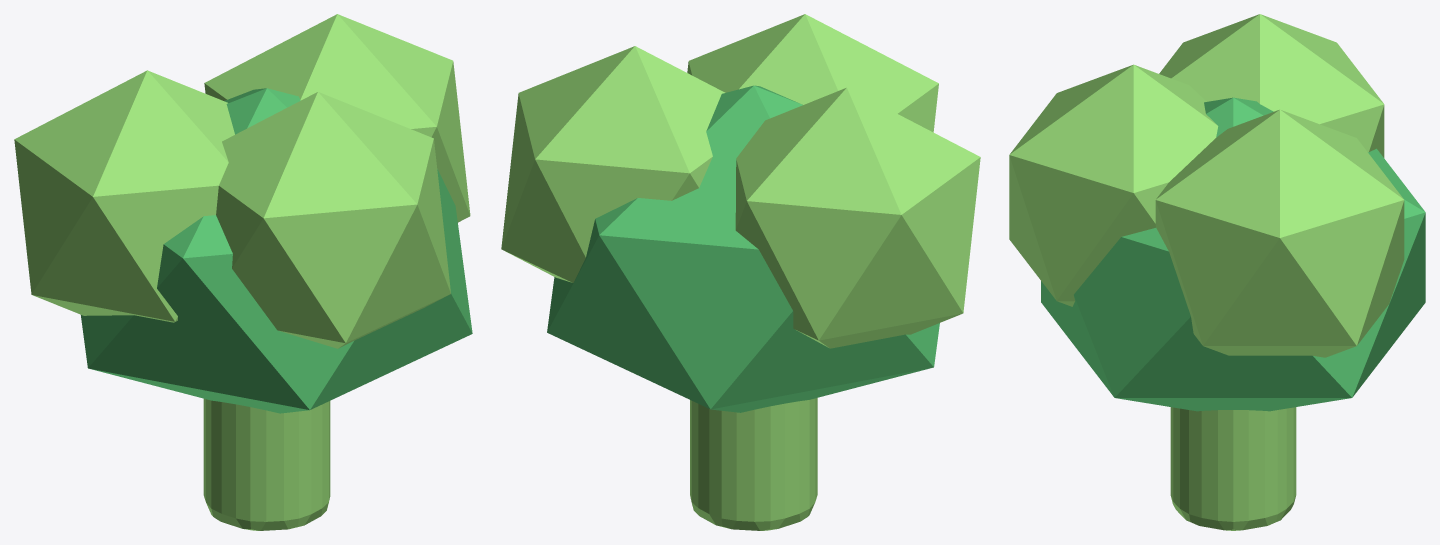
Rendered from VegetableRaw.fbx.
3 views of the same model, side by side, from view 1: azimuth 30°, elevation 25°; view 2: azimuth 150°, elevation 25°; view 3: azimuth 270°, elevation 25° (orthographic). The views are drawn at different scales.
Parts seen in each view (by area): view 1: Floret_0_-0.15, Floret_-0.18_0.04, BroccoliHead, Floret_0.16_0.07, Stem; view 2: BroccoliHead, Floret_-0.18_0.04, Floret_0.16_0.07, Stem, Floret_0_-0.15; view 3: Floret_0.16_0.07, BroccoliHead, Floret_0_-0.15, Floret_-0.18_0.04, Stem.
Part boxes in pixels (x1,y1,x2,y2): Floret_0_-0.15: (216,92,450,348); Floret_-0.18_0.04: (14,70,234,322); BroccoliHead: (81,88,472,413); Floret_0.16_0.07: (204,14,470,222); Stem: (203,398,330,530); BroccoliHead: (547,85,939,412); Floret_-0.18_0.04: (735,87,980,348); Floret_0.16_0.07: (501,46,725,282); Stem: (690,398,817,530); Floret_0_-0.15: (687,14,938,132); Floret_0.16_0.07: (1155,109,1404,357); BroccoliHead: (1041,97,1425,411); Floret_0_-0.15: (1009,64,1218,306); Floret_-0.18_0.04: (1159,14,1384,157); Stem: (1170,407,1296,530).
Size of the model in its own units: 0.7335 by 0.74 by 0.6264.
